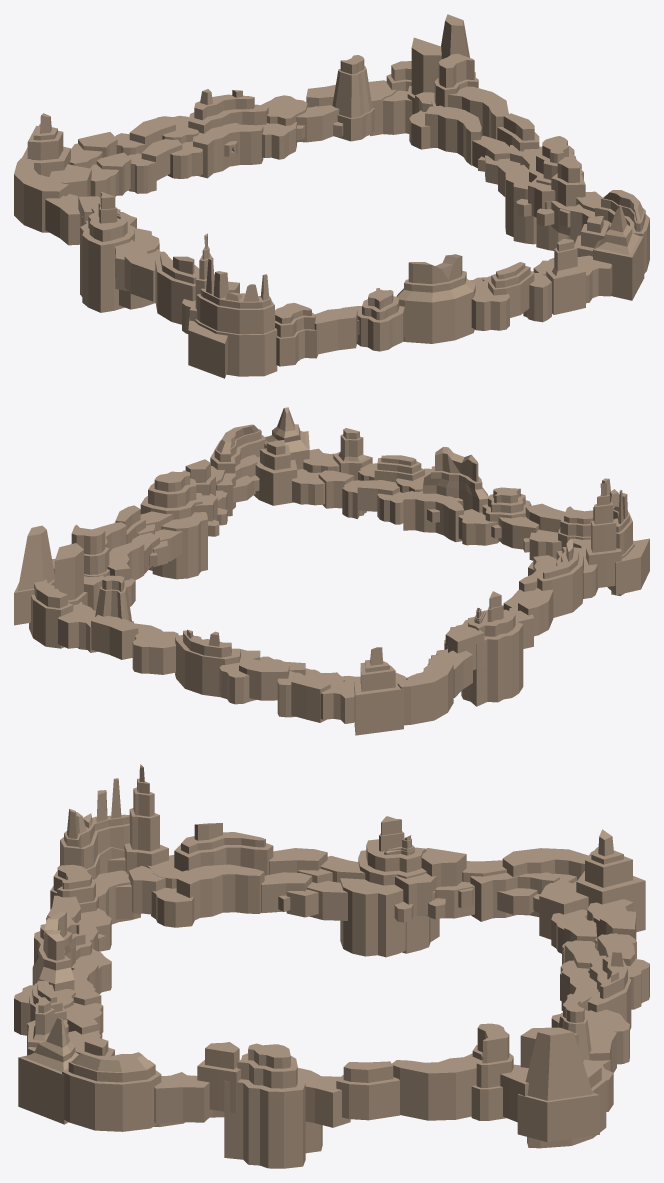
The model's file is RockCircus.fbx.
3 renders of one model, top to bottom at view 1: azimuth 30°, elevation 25°; view 2: azimuth 150°, elevation 25°; view 3: azimuth 270°, elevation 25°, orthographic. The views are drawn at different scales.
Parts seen in each view (by area): view 1: RockCircus; view 2: RockCircus; view 3: RockCircus.
Part boxes in pixels (box(x1,y1,x2,y2)): RockCircus: box(14, 14, 649, 378); RockCircus: box(14, 407, 649, 735); RockCircus: box(14, 764, 649, 1168).
Bounding box in the file's own units: 7612 × 2243 × 7728.
